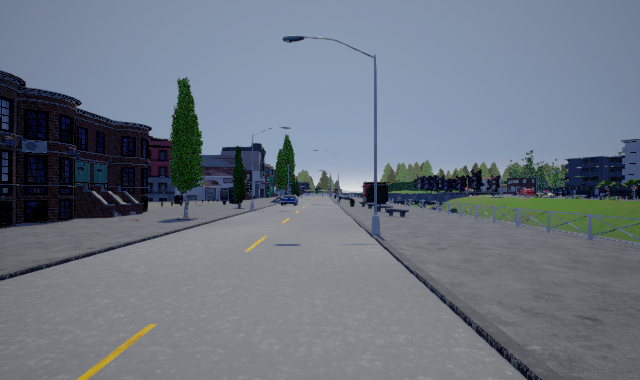vehicle: (280, 194, 298, 206)
